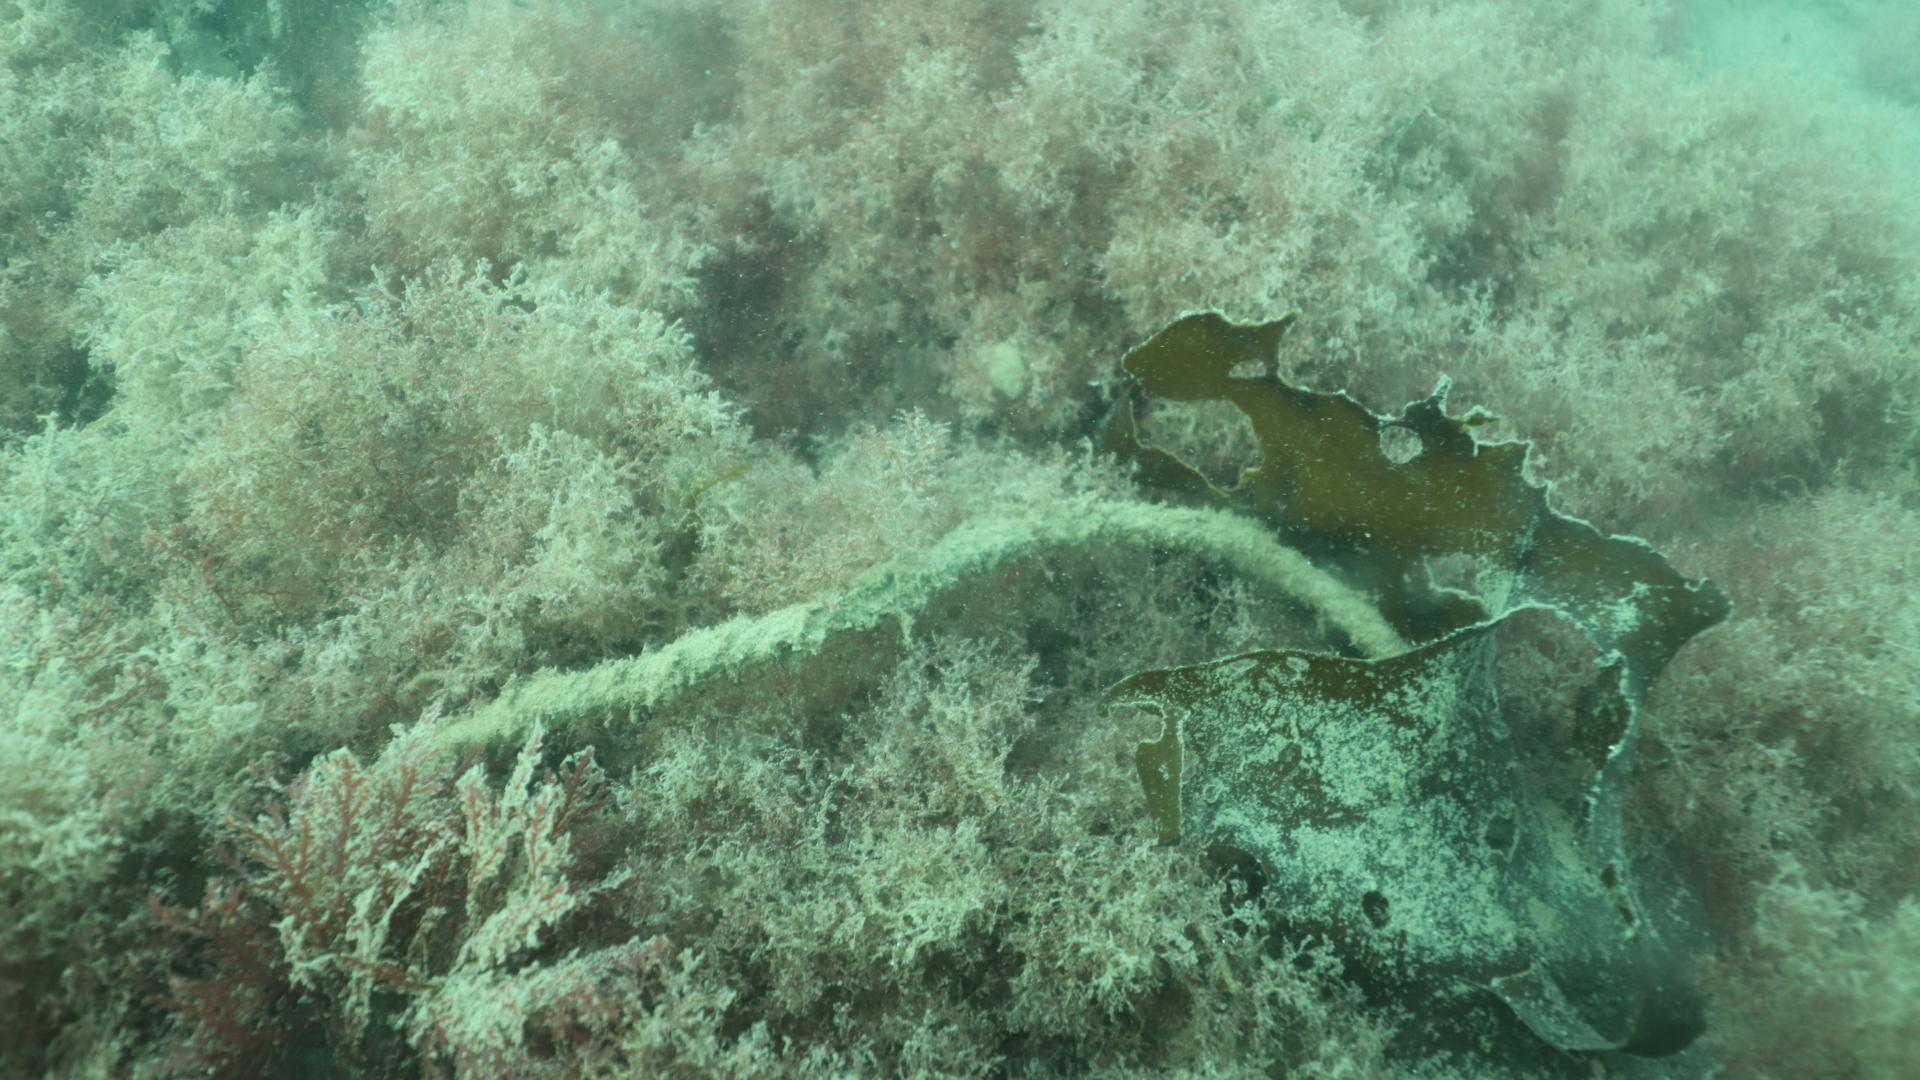rope: (363, 495, 1431, 794)
